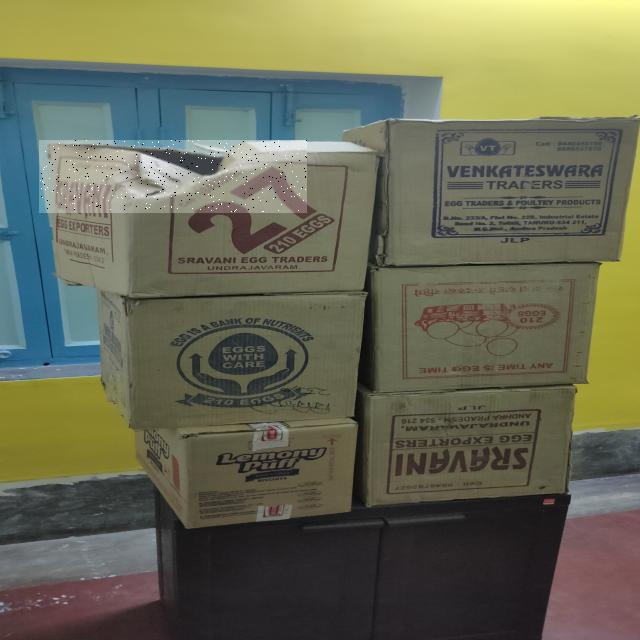squeeze: (41, 140, 307, 212)
